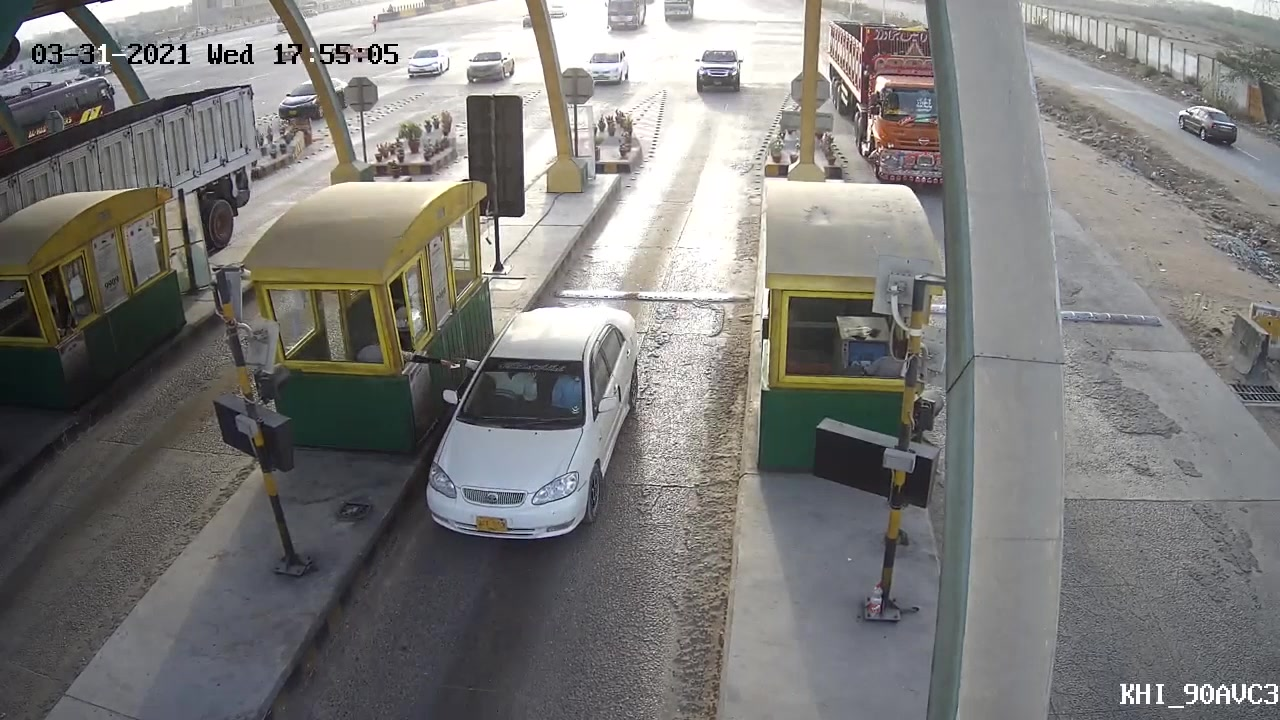F1: (417, 302, 644, 546)
